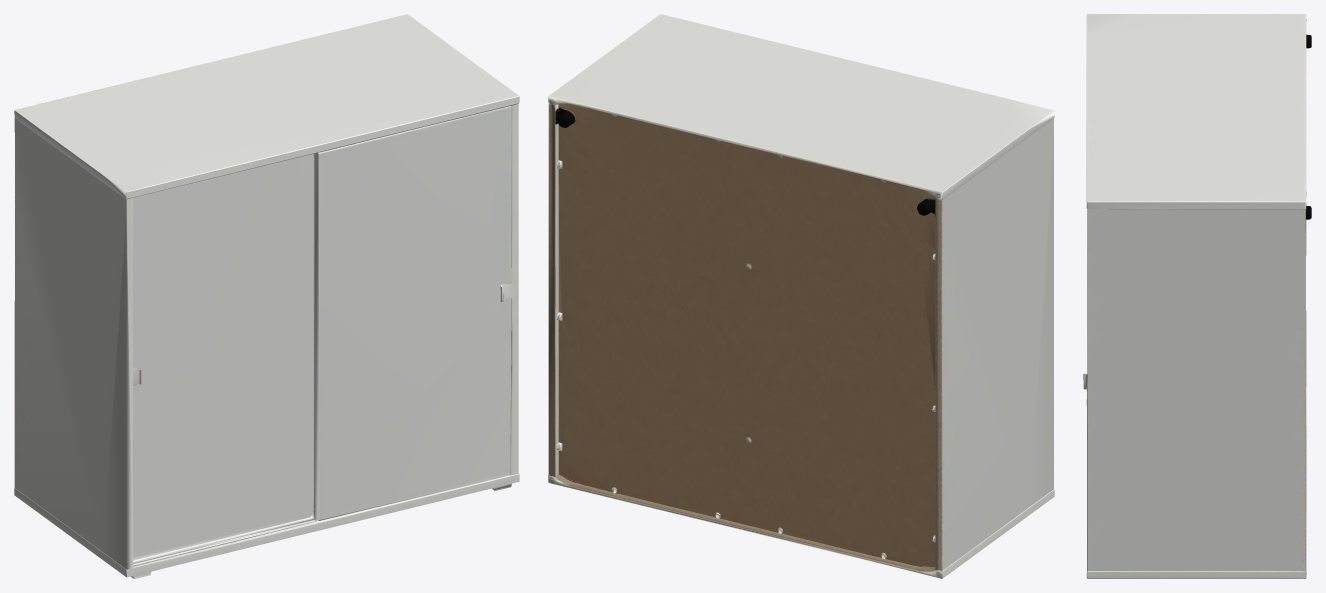
The picture shows the model from 3 angles, left to right: view 1: azimuth 30°, elevation 25°; view 2: azimuth 150°, elevation 25°; view 3: azimuth 270°, elevation 25°; orthographic projection. The views are drawn at different scales.
Visible parts, largest first — view 1: ProcessedMeshNode; view 2: ProcessedMeshNode; view 3: ProcessedMeshNode.
Boxes of the visible parts, x1,y1,x2,y2 form: ProcessedMeshNode: (14, 14, 519, 578); ProcessedMeshNode: (548, 14, 1054, 578); ProcessedMeshNode: (1083, 14, 1311, 578).
Size of the model in its own units: 0.9523 by 0.9003 by 0.489.
Materials: 1 (1 with a texture image).
